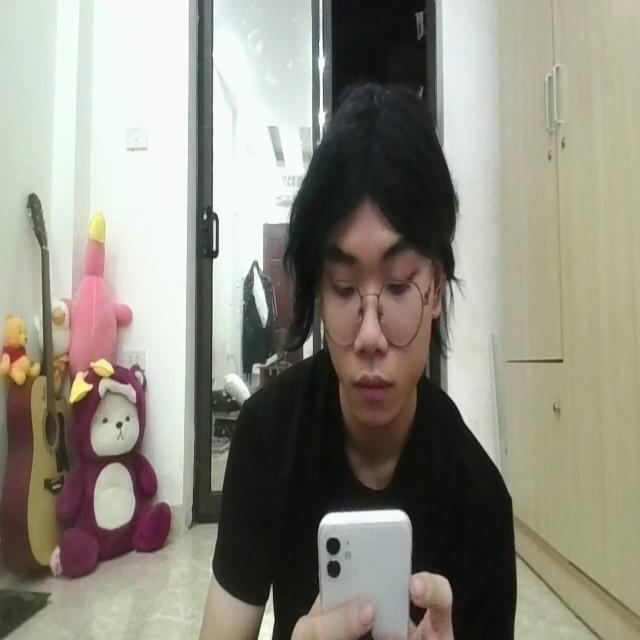phone: (318, 501, 414, 640)
student: (202, 77, 518, 640)
